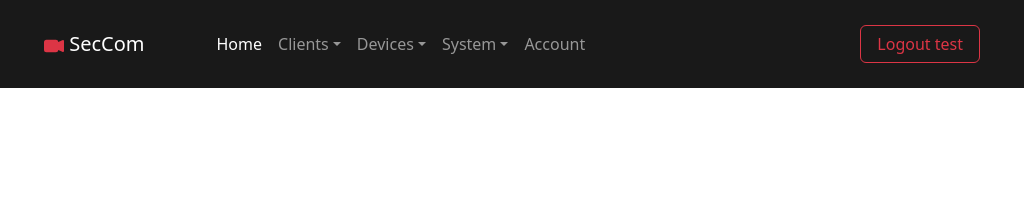
<SecComNavbar /> › it should have the intrusion videos link
The width and height of the screenshot is (1024, 197).
Click the button "Clients": x=309, y=44 [270,24,349,64]
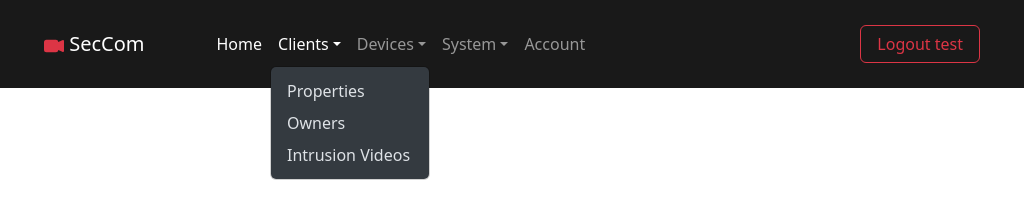
Check: the link "Intrusion Videos" is shown, box [287,144,410,166]
